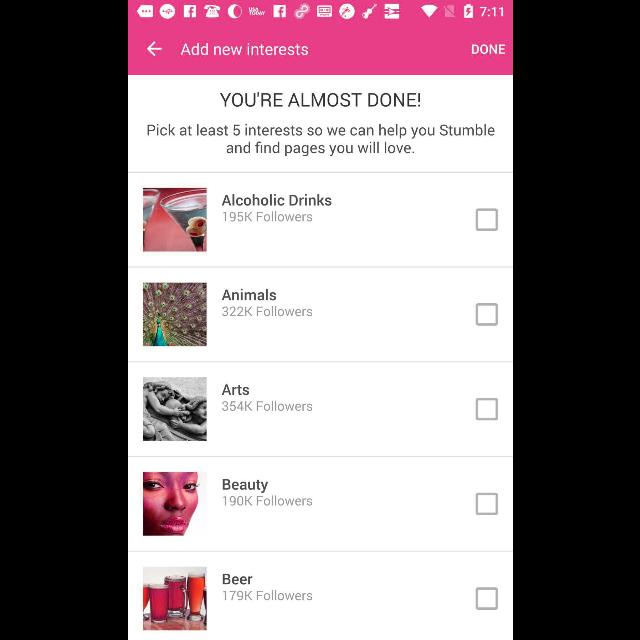checkbox: (474, 304, 498, 326), (475, 492, 497, 516), (475, 399, 497, 421), (475, 588, 497, 610), (477, 209, 498, 231)
icon: (146, 41, 162, 57)
image: (142, 188, 205, 252), (142, 282, 205, 346), (142, 377, 205, 441), (142, 472, 205, 536), (142, 566, 205, 630)
text: (146, 124, 494, 156), (219, 92, 419, 108), (180, 42, 308, 56), (225, 201, 312, 221), (221, 194, 331, 206), (221, 401, 311, 412), (221, 306, 311, 316), (222, 496, 312, 506), (222, 590, 312, 600), (221, 289, 275, 301), (222, 479, 268, 493), (471, 45, 505, 55), (222, 384, 248, 396), (222, 574, 252, 584)
uppertaskbar: (128, 1, 512, 23)
